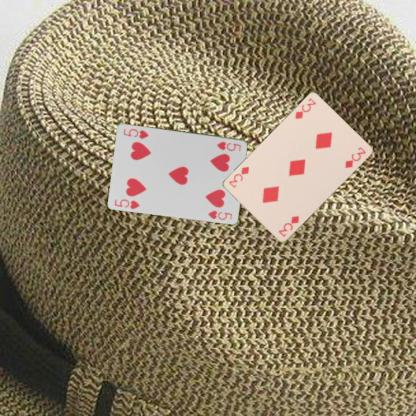3d: (292, 95, 317, 121), (276, 213, 300, 238)
5h: (112, 196, 141, 210), (214, 139, 242, 152)
